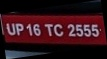character: (5, 22, 16, 35), (53, 23, 63, 36), (14, 22, 23, 36), (32, 23, 41, 36), (44, 23, 53, 36), (67, 23, 76, 36), (25, 22, 33, 36), (83, 23, 91, 37), (91, 23, 99, 37), (75, 23, 82, 36)
